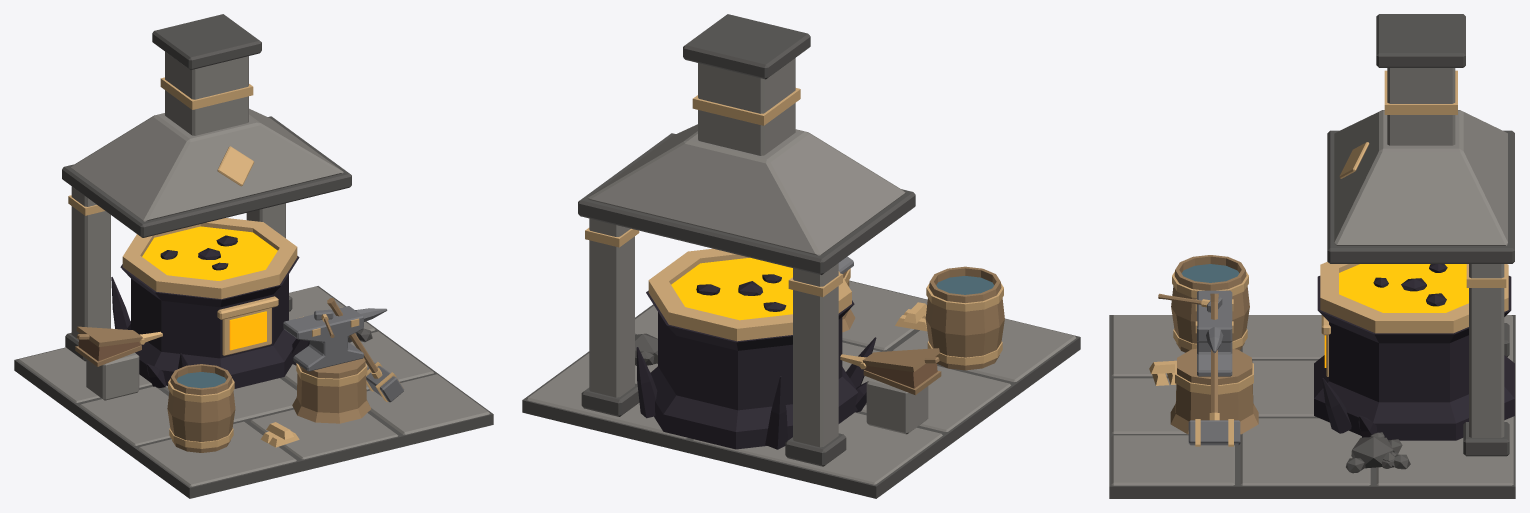
File: mforge.glb
3 renders of one model, left to right at view 1: azimuth 30°, elevation 25°; view 2: azimuth 150°, elevation 25°; view 3: azimuth 270°, elevation 25°, orthographic. The views are drawn at different scales.
Parts seen in each view (by area): view 1: floor, hood, forge_base, floor_base, forge_rim, hood_lip, pillar_l, forge_magma, chimney, quench_barrel, chimney_cap, anvil_stump (+14 smaller); view 2: hood, floor, forge_base, floor_base, pillar_l, pillar_r, hood_lip, chimney, quench_barrel, chimney_cap, forge_magma, forge_rim (+9 smaller); view 3: floor, hood, forge_base, floor_base, pillar_r, hood_lip, forge_magma, chimney_cap, chimney, forge_rim, anvil_stump, quench_barrel (+10 smaller).
Part boxes in pixels (x1,y1,x2,y2): floor: [18, 286, 489, 486]; hood: [70, 108, 343, 221]; forge_base: [120, 256, 299, 388]; floor_base: [14, 286, 493, 498]; forge_rim: [122, 218, 297, 299]; hood_lip: [62, 116, 351, 237]; pillar_l: [71, 186, 110, 339]; forge_magma: [142, 226, 277, 280]; chimney: [165, 51, 248, 135]; quench_barrel: [167, 364, 235, 452]; chimney_cap: [152, 14, 261, 69]; anvil_stump: [292, 357, 371, 423]; hood: [588, 124, 905, 255]; floor: [526, 281, 1075, 484]; forge_base: [646, 290, 857, 449]; floor_base: [522, 280, 1080, 498]; pillar_l: [793, 263, 838, 447]; pillar_r: [589, 218, 634, 397]; hood_lip: [578, 133, 915, 274]; chimney: [698, 58, 795, 155]; quench_barrel: [925, 266, 1004, 370]; chimney_cap: [683, 14, 810, 79]; forge_magma: [671, 257, 792, 320]; forge_rim: [648, 248, 851, 341]; floor: [1111, 315, 1513, 485]; hood: [1334, 110, 1507, 245]; forge_base: [1314, 276, 1514, 440]; floor_base: [1109, 315, 1515, 498]; pillar_r: [1469, 264, 1504, 437]; hood_lip: [1327, 130, 1514, 263]; forge_magma: [1339, 264, 1468, 312]; chimney_cap: [1376, 14, 1465, 67]; chimney: [1387, 68, 1455, 145]; forge_rim: [1320, 261, 1508, 333]; anvil_stump: [1170, 348, 1258, 434]; quench_barrel: [1171, 255, 1249, 352].
Size of what is drawn, in the model's own units: 2.99 by 3.08 by 2.99.
